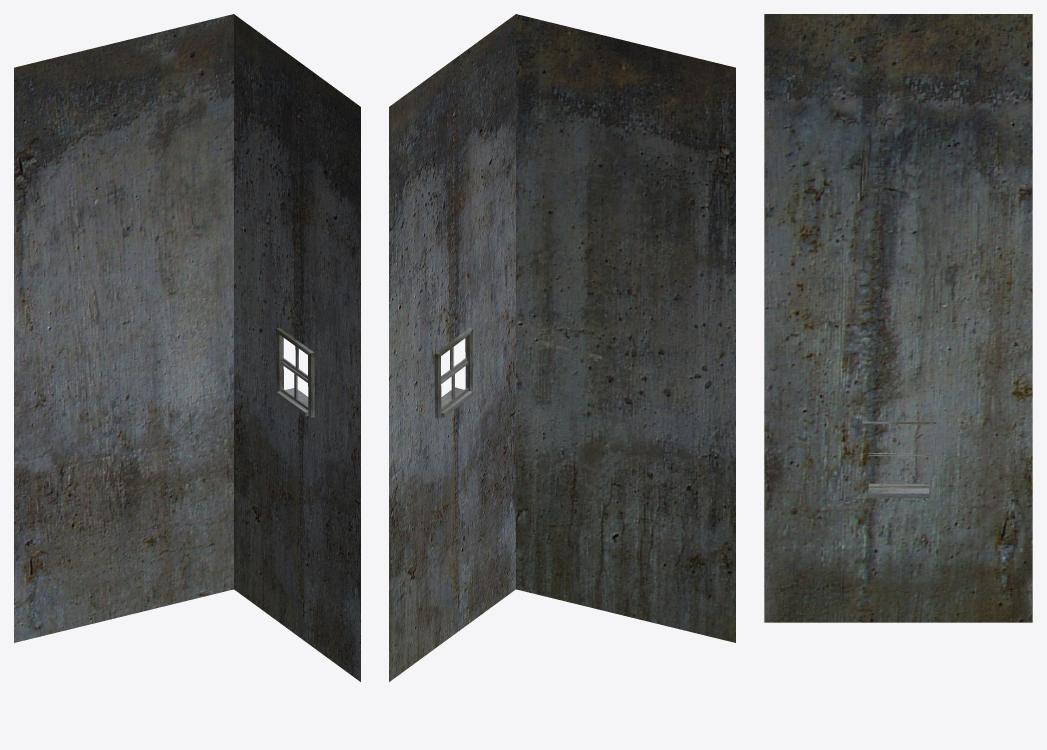
The model's file is outerWall_window.glb.
3 views of the same model, side by side, from view 1: azimuth 30°, elevation 25°; view 2: azimuth 150°, elevation 25°; view 3: azimuth 270°, elevation 25° (orthographic). The views are drawn at different scales.
Visible parts, largest first — view 1: Mesh_0, model_0; view 2: Mesh_0, model_0; view 3: Mesh_0, model_0.
Part boxes in pixels (x1,y1,x2,y2): Mesh_0: (14, 14, 360, 681); model_0: (276, 327, 314, 417); Mesh_0: (389, 14, 735, 681); model_0: (434, 327, 472, 418); Mesh_0: (764, 14, 1032, 622); model_0: (862, 421, 936, 498).
Size of the model in its own units: 4.22 by 10 by 4.
1 material, 1 textured.
